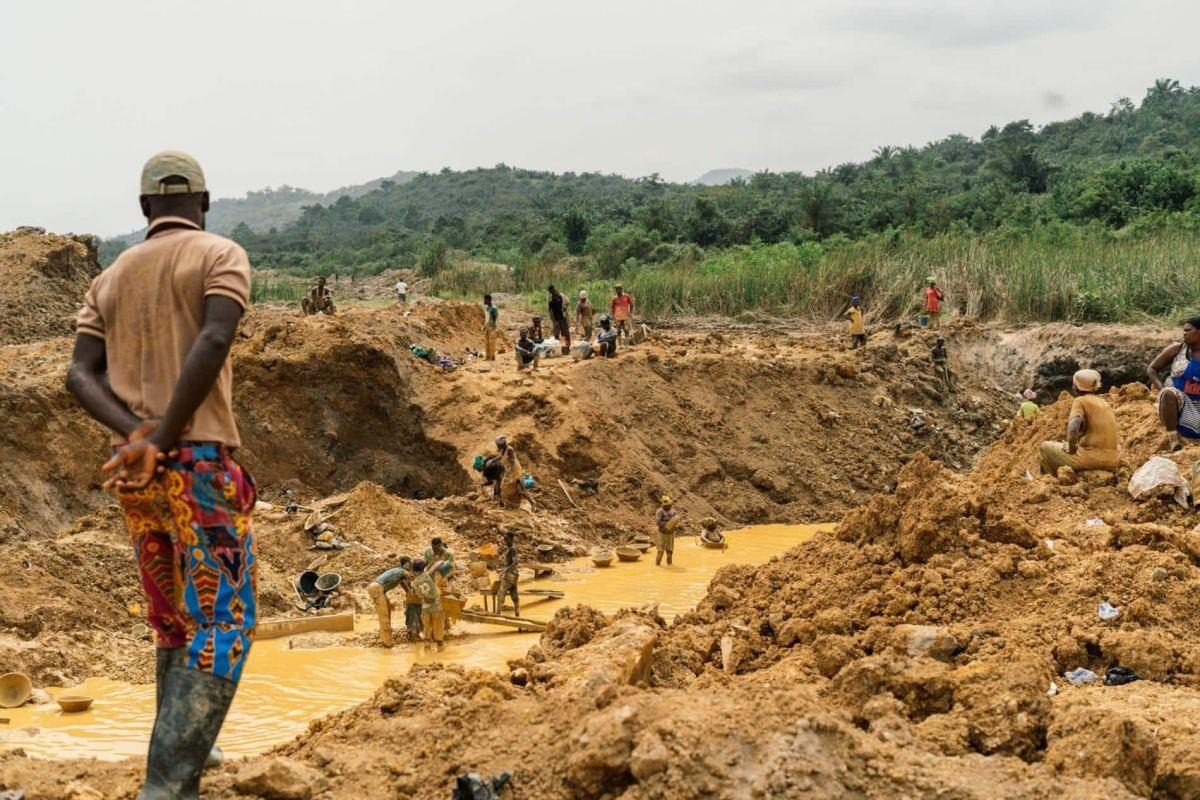MiningTool: (1, 667, 33, 710), (556, 477, 582, 511), (57, 693, 94, 716), (312, 570, 344, 593), (294, 571, 318, 597), (289, 580, 306, 611), (31, 687, 54, 708), (614, 545, 642, 562), (319, 506, 344, 524), (303, 508, 322, 531), (591, 552, 614, 568), (89, 621, 116, 634), (628, 314, 638, 349), (128, 622, 150, 637), (439, 560, 455, 578), (941, 359, 950, 387), (632, 541, 652, 553), (324, 498, 350, 507), (704, 540, 729, 549), (537, 543, 554, 554), (633, 535, 650, 543)
Person: (61, 145, 257, 800), (1145, 315, 1200, 452), (1039, 367, 1098, 482), (364, 555, 412, 649), (409, 559, 449, 652), (484, 435, 536, 506), (496, 533, 522, 618), (575, 315, 619, 362), (654, 493, 680, 568), (544, 282, 571, 344), (472, 452, 506, 501), (610, 285, 635, 349), (299, 275, 337, 317), (931, 335, 958, 392), (477, 292, 499, 359), (421, 539, 461, 569), (574, 288, 596, 341), (845, 294, 867, 347), (923, 277, 945, 327), (514, 330, 541, 370), (1015, 388, 1041, 419), (698, 517, 727, 542), (527, 315, 544, 343), (395, 276, 410, 304)
ProcessingEquiment: (404, 590, 549, 637), (478, 584, 565, 614), (498, 558, 556, 578)
